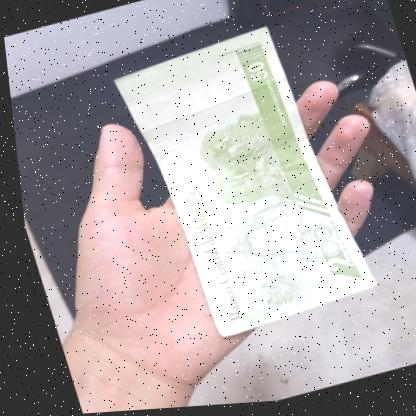fifty-back-vef: (103, 18, 377, 350)
